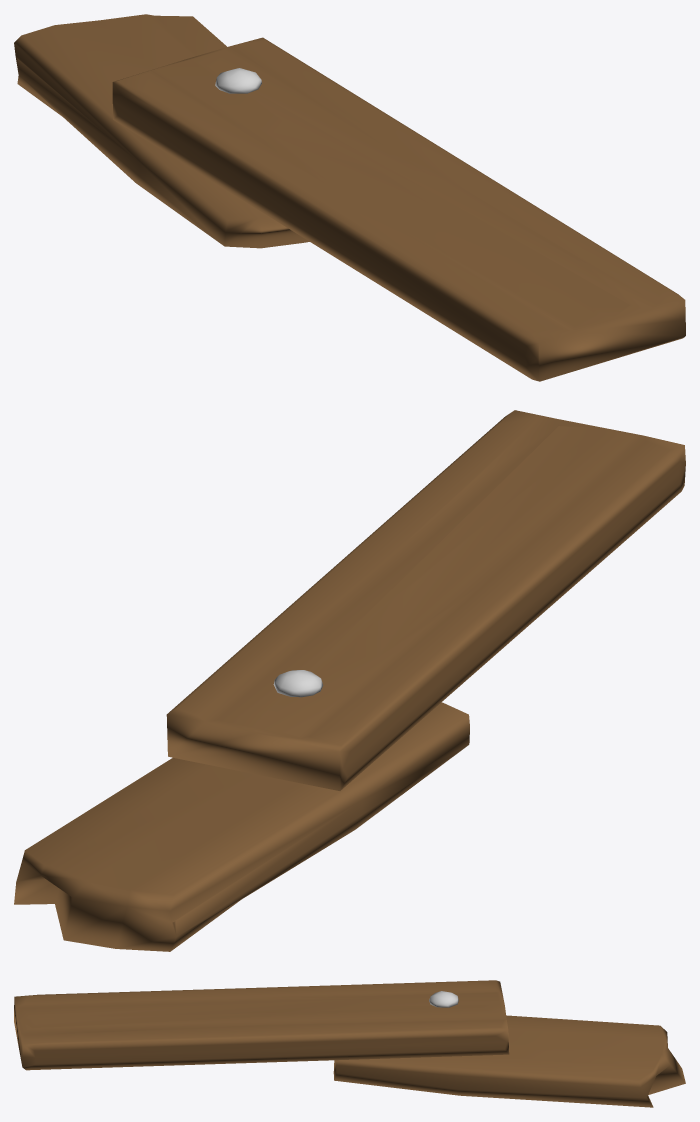
The model's file is plank_8.fbx.
3 views of the same model, one above another, from view 1: azimuth 30°, elevation 25°; view 2: azimuth 150°, elevation 25°; view 3: azimuth 270°, elevation 25° (orthographic). The views are drawn at different scales.
Parts seen in each view (by area): view 1: plank.001, plank broke, N larry.002; view 2: plank.001, plank broke, N larry.002; view 3: plank.001, plank broke, N larry.002.
Boxes of the visible parts, box(x1,y1,x2,y2) form: plank.001: box(112, 37, 685, 381); plank broke: box(14, 14, 309, 248); N larry.002: box(215, 68, 261, 93); plank.001: box(166, 410, 685, 790); plank broke: box(14, 702, 469, 951); N larry.002: box(273, 670, 323, 697); plank.001: box(14, 980, 509, 1070); plank broke: box(333, 1015, 685, 1107); N larry.002: box(429, 991, 458, 1007).
Size of the model in its own units: 1725 by 987 by 7387.
